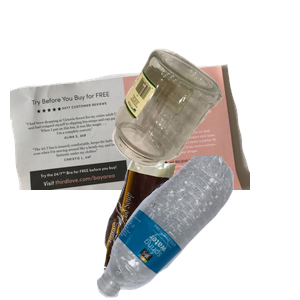glass: (110, 46, 300, 205)
paper: (10, 61, 250, 241)
plastic: (94, 156, 300, 300)
trash: (101, 157, 270, 300)
